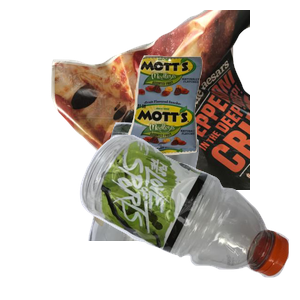glass: (86, 120, 277, 300)
paper: (49, 10, 289, 190)
plastic: (77, 132, 300, 300)
trash: (125, 53, 300, 201)
